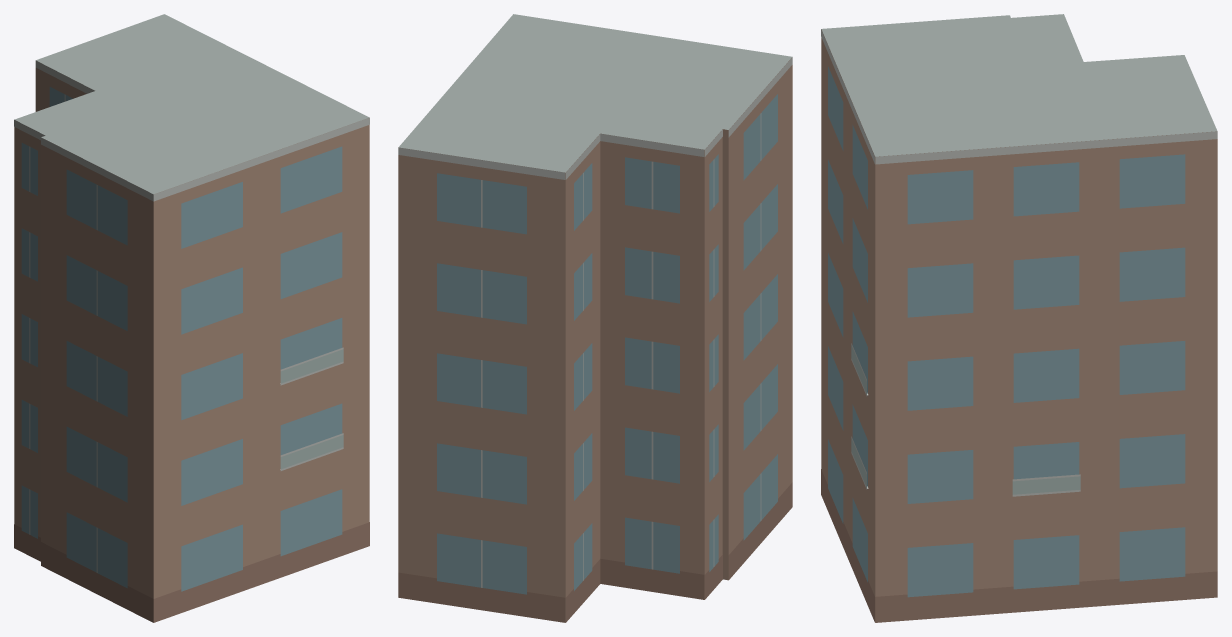
The model's file is survey-upis-32714235.glb.
The picture shows the model from 3 angles, left to right: view 1: azimuth 30°, elevation 25°; view 2: azimuth 150°, elevation 25°; view 3: azimuth 270°, elevation 25°; orthographic projection. The views are drawn at different scales.
Visible parts, largest first — view 1: survey-upis-32714235.tmp; view 2: survey-upis-32714235.tmp; view 3: survey-upis-32714235.tmp.
Boxes of the visible parts, x1=… form: survey-upis-32714235.tmp: x1=14, y1=14, x2=369, y2=622; survey-upis-32714235.tmp: x1=398, y1=14, x2=792, y2=622; survey-upis-32714235.tmp: x1=821, y1=14, x2=1217, y2=622.
Size of the model in its own units: 9.6 by 14.6 by 11.26.
